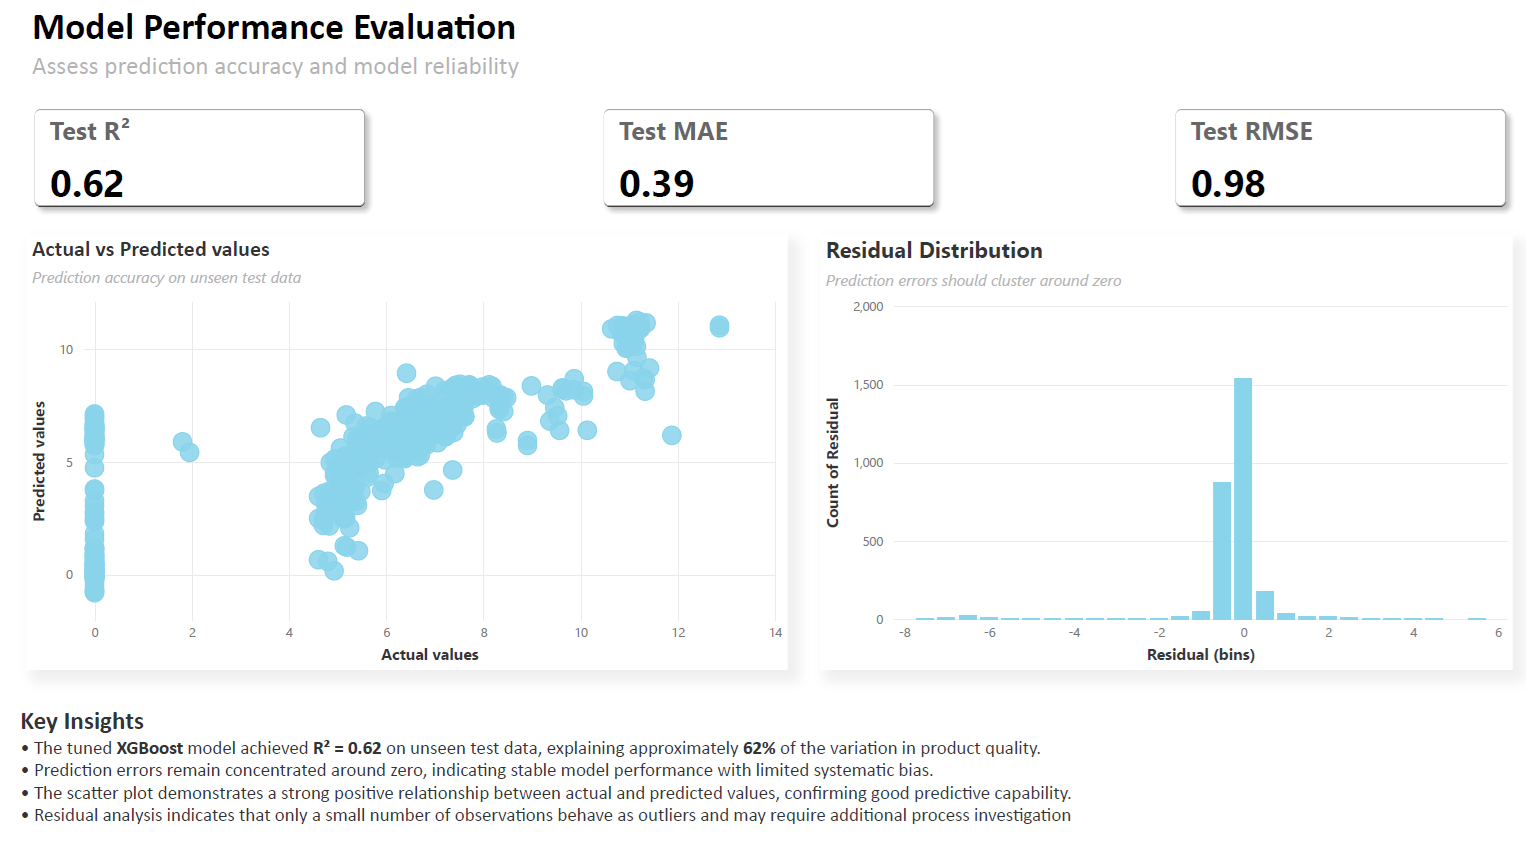

Layout of this report page (visuals, bound fields, positions):
{"tool":"powerbi","page":{"name":"Model Performance","canvas":[1280,720],"ordinal":2},"visuals":[{"type":"textbox","box":[9.8,9.8,687.1,193.5],"z":0},{"type":"cardVisual","fields":{"Data":["continuous_factory_process.Test MAE"]},"box":[482.4,86.7,314.1,116.4],"z":1},{"type":"cardVisual","fields":{"Data":["continuous_factory_process.Test R²"]},"box":[0,86.7,314.1,116.4],"z":2},{"type":"cardVisual","fields":{"Data":["continuous_factory_process.Test RMSE"]},"box":[965.9,86.7,314.1,116.4],"z":3},{"type":"scatterChart","title":"Actual vs Predicted values","fields":{"X":["model_performance.Actual"],"Y":["model_performance.Predicted"]},"box":[9.8,210.3,645,368.8],"z":4},{"type":"clusteredColumnChart","title":"Residual Distribution","fields":{"Category":["model_performance.Residual (bins)"],"Y":["CountNonNull(model_performance.Residual)"]},"box":[681.5,210.3,587.6,368.8],"z":5},{"type":"textbox","box":[0,604.4,1255,115],"z":6}]}

Visuals, with their boxes in screenshot pixels (x1, y1, x2, y2), scaled from the page's 1280x720 canvas onto the 1536x843 screenshot:
textbox: 12/11/836/238
cardVisual - continuous_factory_process.Test MAE: 579/102/956/238
cardVisual - continuous_factory_process.Test R²: 0/102/377/238
cardVisual - continuous_factory_process.Test RMSE: 1159/102/1535/238
"Actual vs Predicted values" scatterChart: 12/246/786/678
"Residual Distribution" clusteredColumnChart: 818/246/1523/678
textbox: 0/708/1506/842
